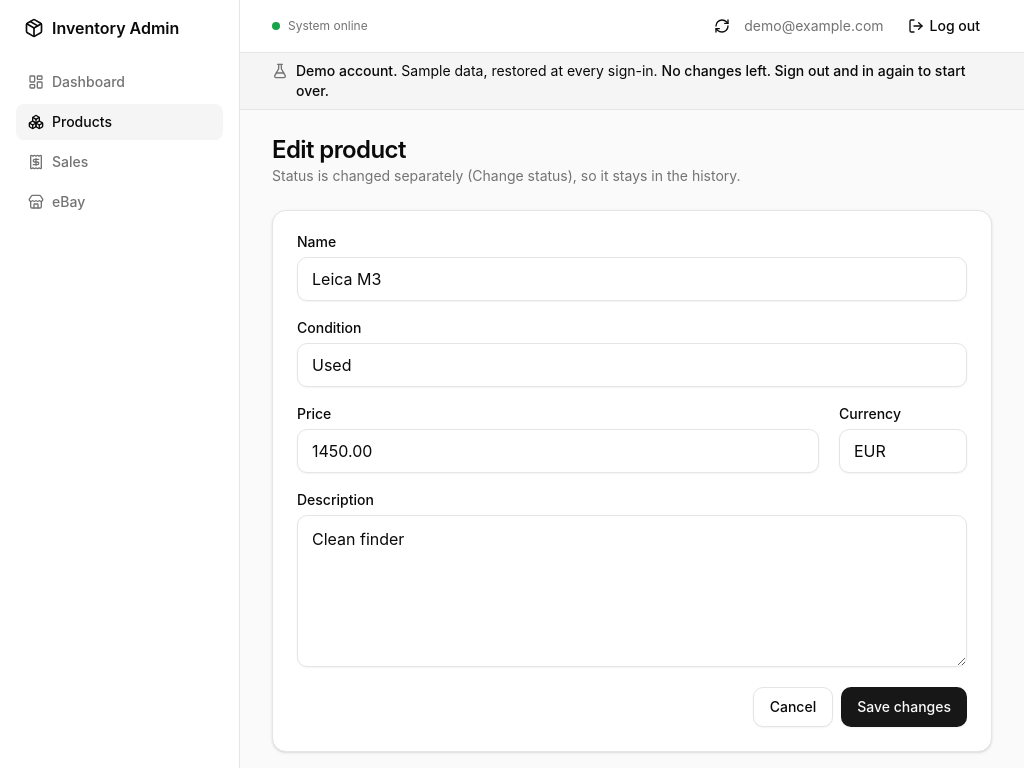
demo account › shows the server's explanation when the limit is reached
The width and height of the screenshot is (1024, 768).
Replace the text in the field labelled "Name" with "Renamed" at [632, 279], box [297,257,967,301]
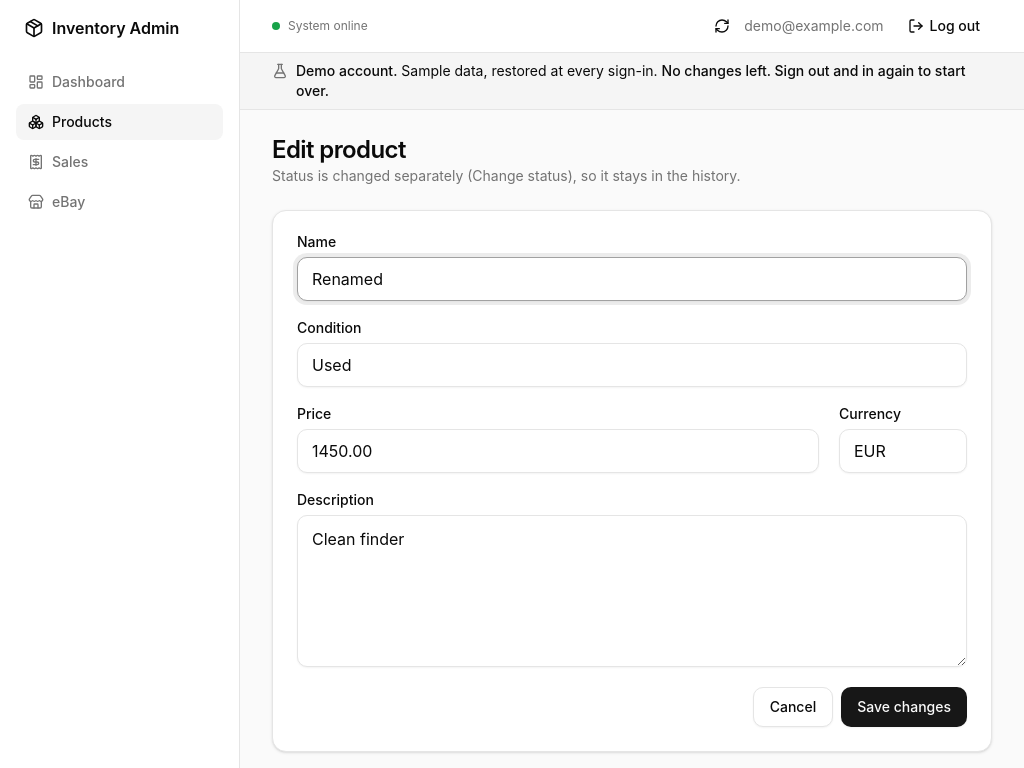
Click the button "Save changes" at [904, 707], box [841,687,967,727]
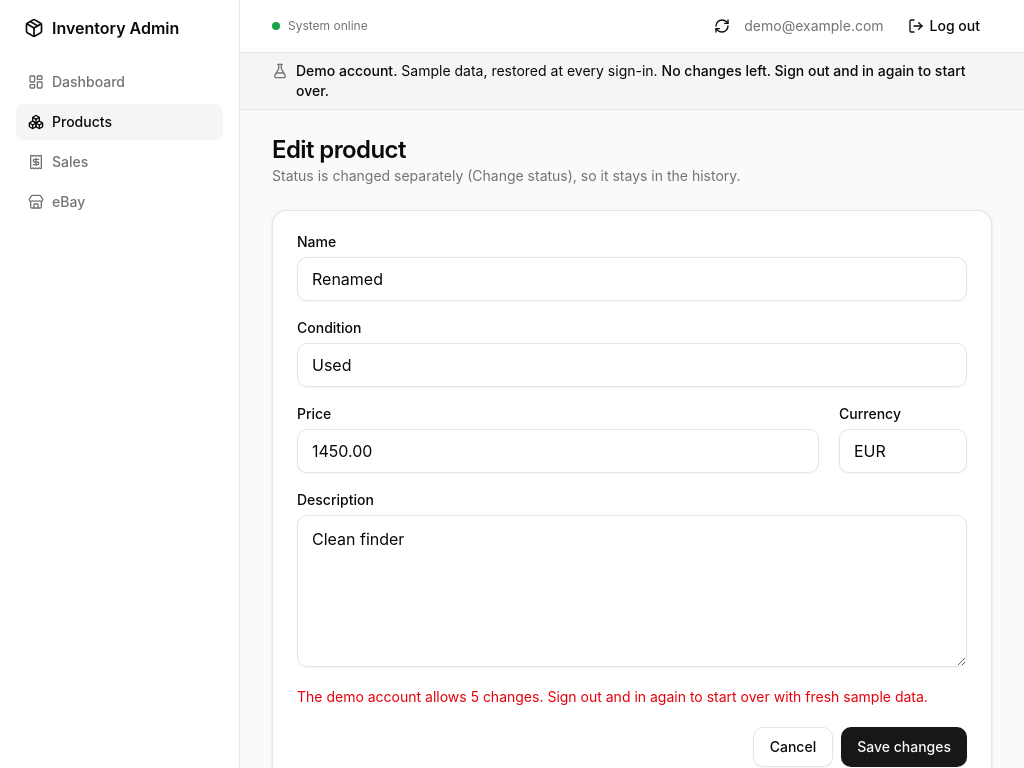
Check: the text "The demo account allows 5 changes. Sign out and in again to start over with fresh sample data." is shown, box [297,688,928,705]
